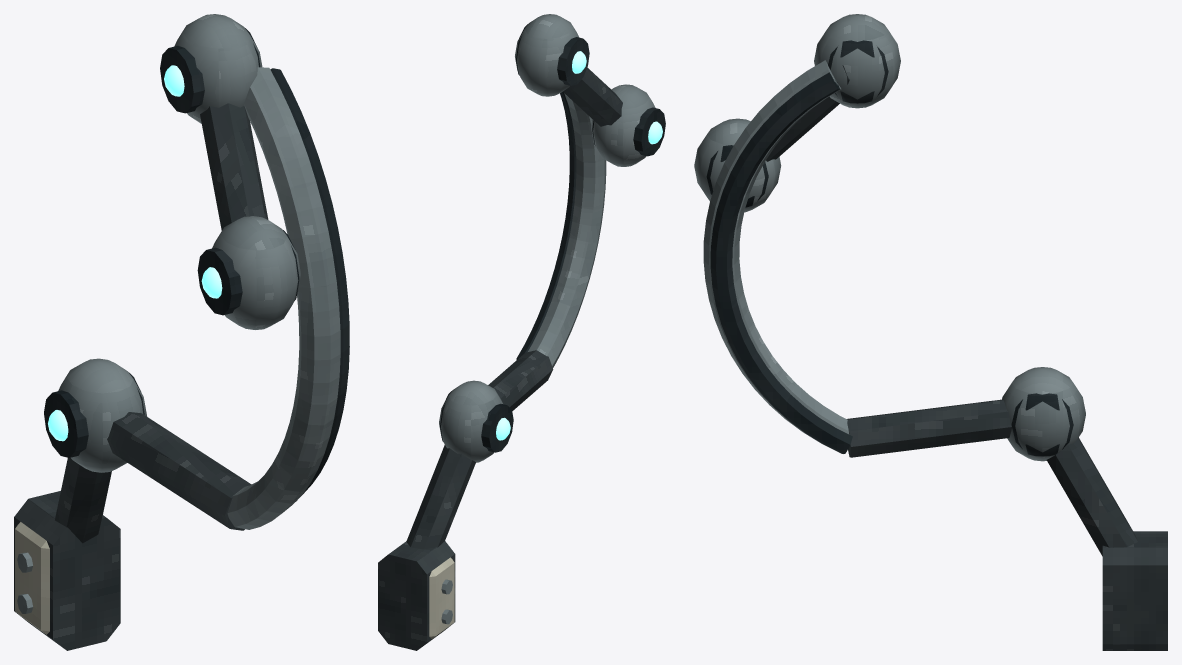
The model's file is cranial_interface_right.glb.
The picture shows the model from 3 angles, left to right: view 1: azimuth 30°, elevation 25°; view 2: azimuth 150°, elevation 25°; view 3: azimuth 270°, elevation 25°; orthographic projection. The views are drawn at different scales.
Parts seen in each view (by area): view 1: cranial_interface_right; view 2: cranial_interface_right; view 3: cranial_interface_right.
Boxes of the visible parts, left/top/right/bottom form: cranial_interface_right: left=14, top=14, right=349, bottom=650; cranial_interface_right: left=378, top=14, right=665, bottom=650; cranial_interface_right: left=694, top=14, right=1167, bottom=650.
Bounding box in the file's own units: 0.0238 × 0.1255 × 0.087.
5 materials, 4 textured.
